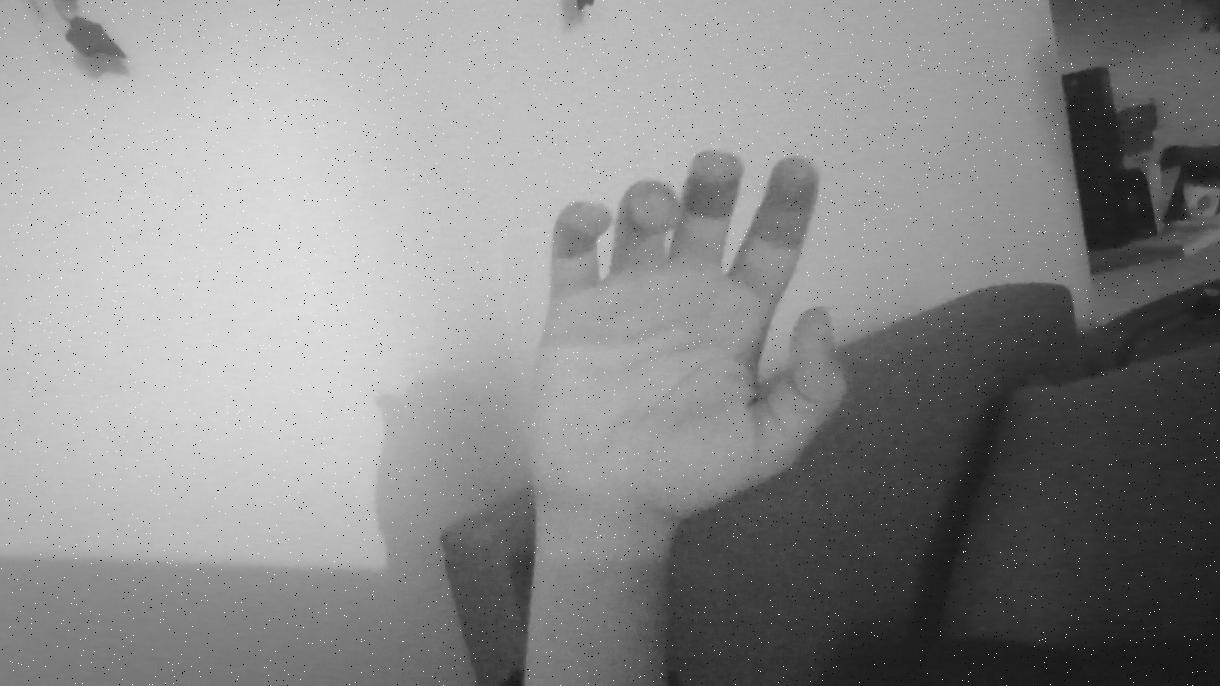hi: (503, 128, 871, 537)
